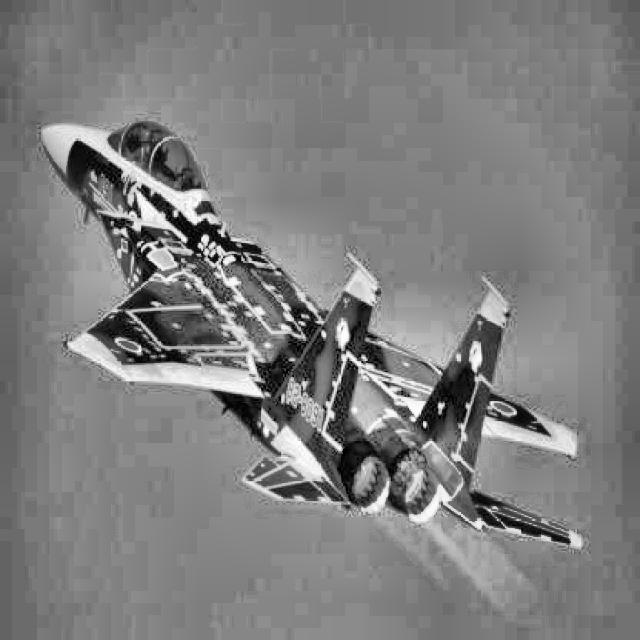F15: (40, 120, 583, 549)
